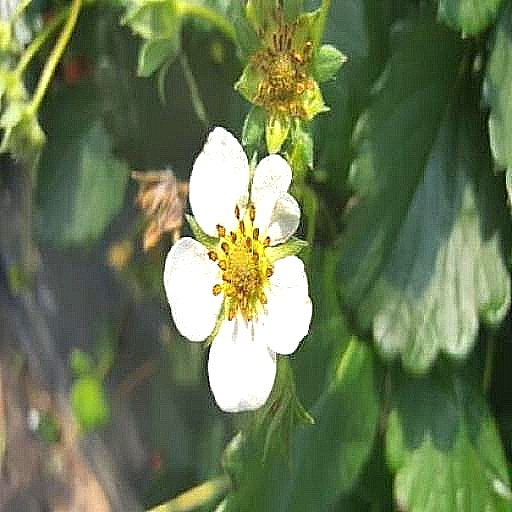Blossom Blight: (233, 200, 310, 328), (191, 0, 263, 126)
